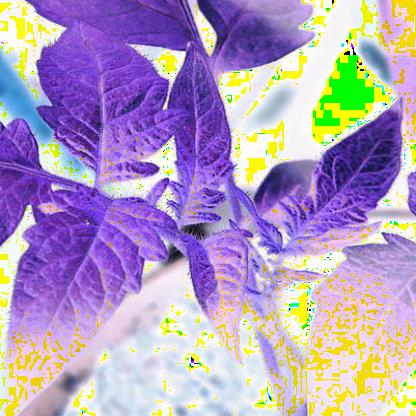tomato leaf: (6, 173, 162, 409), (32, 19, 190, 194), (271, 102, 408, 265), (159, 35, 237, 231), (178, 226, 251, 365)
